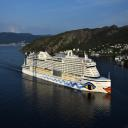cruises: (23, 49, 113, 98)
